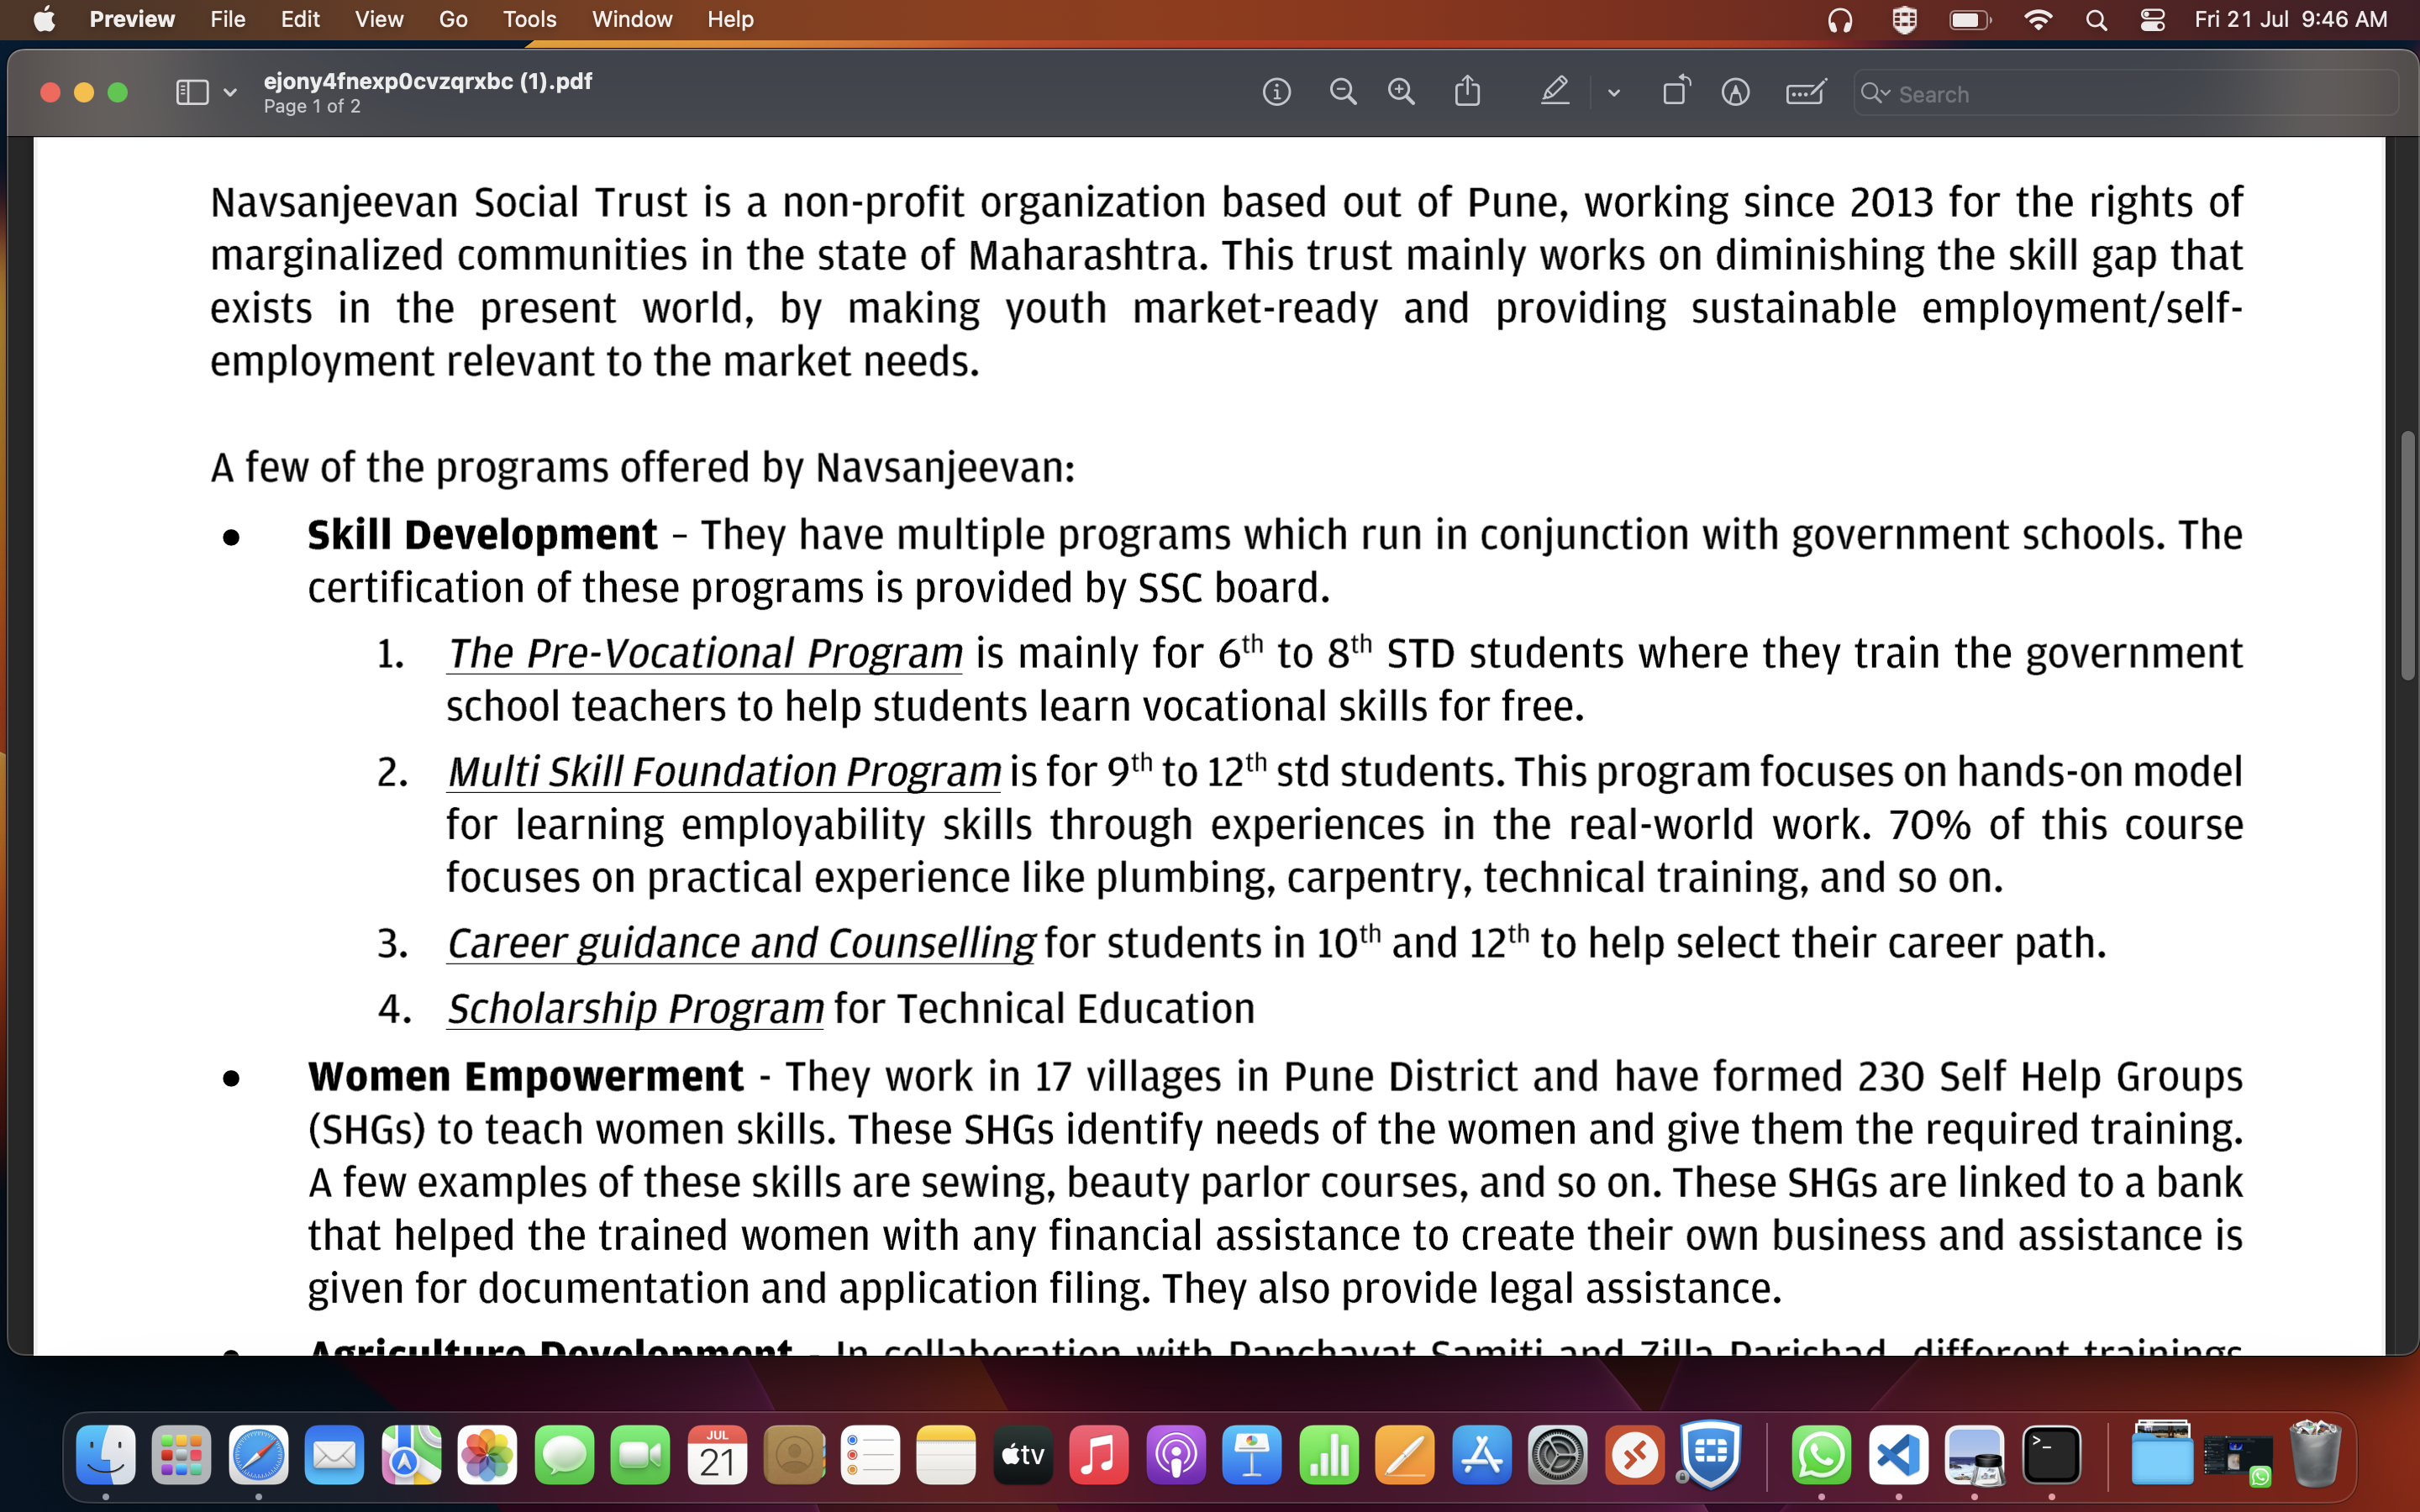Paragraph: (298, 1052, 2270, 1320), (195, 159, 2281, 404), (439, 740, 2253, 906), (298, 507, 2267, 620), (443, 624, 2263, 723), (446, 918, 2133, 977), (202, 442, 1094, 493), (450, 991, 1272, 1042)
